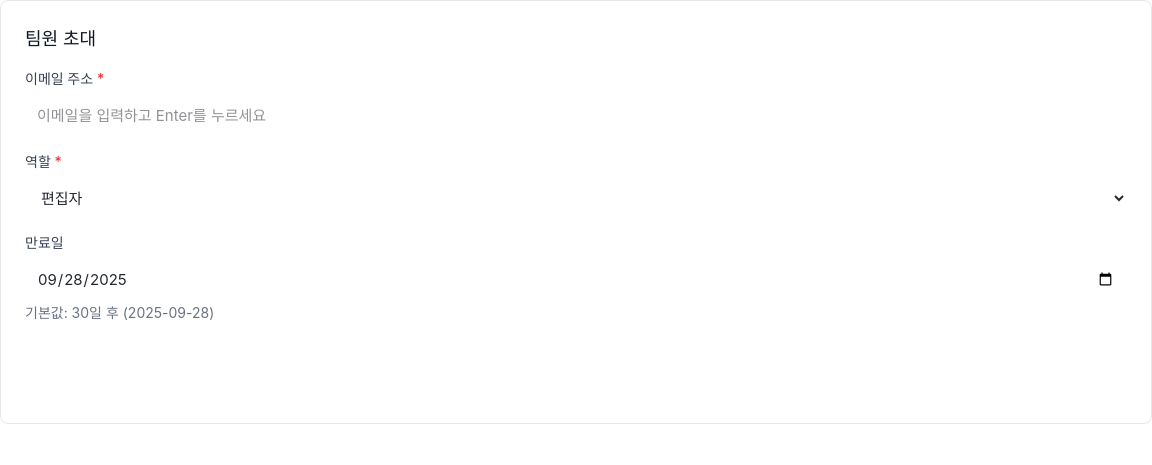
Scenario: TeamInviteForm › 유효하지 않은 이메일 형식은 추가되지 않아야 함
Type "invalid-email" into the field labelled "이메일 주소" at (576, 116), box [25,97,1127,136]
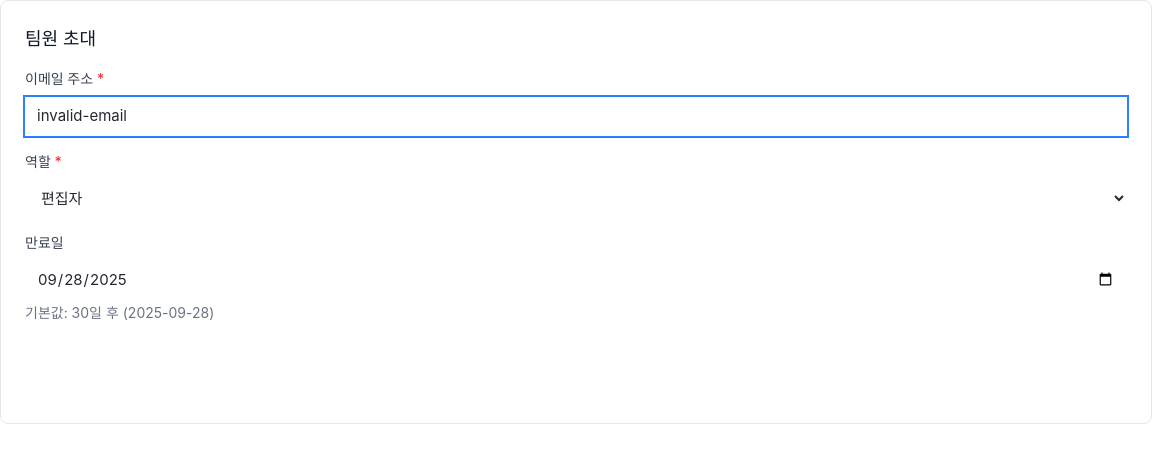
Press Enter
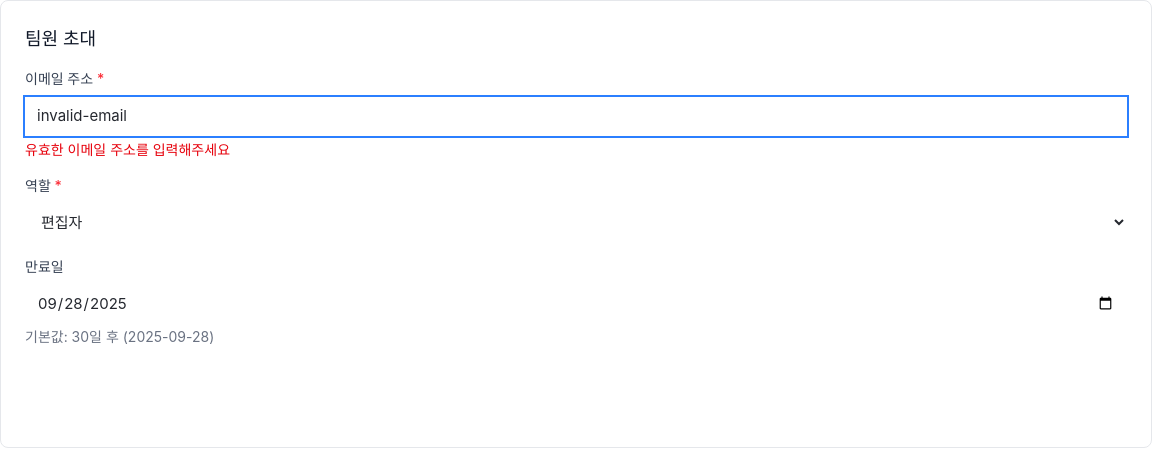
Check: the text "유효한 이메일 주소를 입력해주세요" is shown, box [25,140,230,158]
